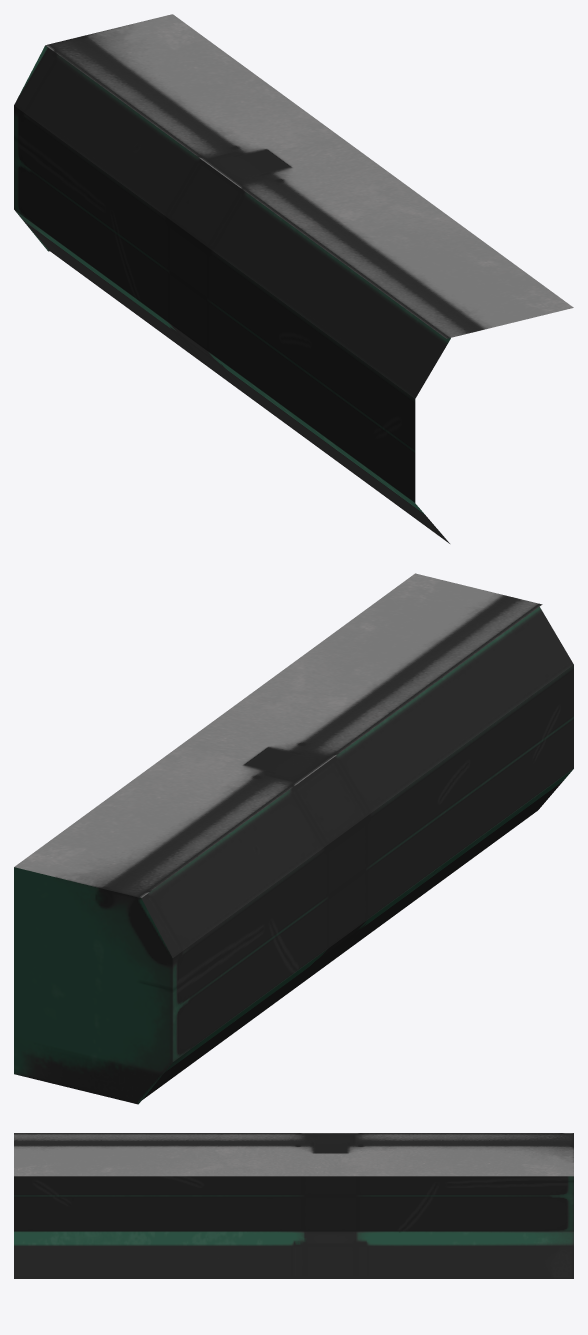
File: 1 kabe2.fbx
The picture shows the model from 3 angles, top to bottom: view 1: azimuth 30°, elevation 25°; view 2: azimuth 150°, elevation 25°; view 3: azimuth 270°, elevation 25°; orthographic projection. The views are drawn at different scales.
Parts seen in each view (by area): view 1: polySurface360; view 2: polySurface360; view 3: polySurface360.
Part boxes in pixels (x1,y1,x2,y2): polySurface360: [14, 14, 573, 543]; polySurface360: [14, 573, 573, 1104]; polySurface360: [14, 1133, 573, 1278].
Bounding box in the file's own units: 14.02 × 17.47 × 61.37.
1 material, 1 textured.
